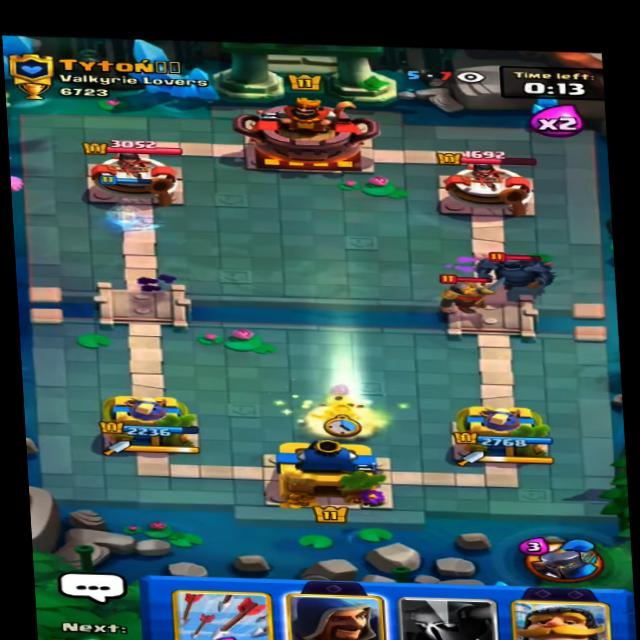knight: (431, 270, 501, 320)
pekka: (471, 244, 564, 292)
